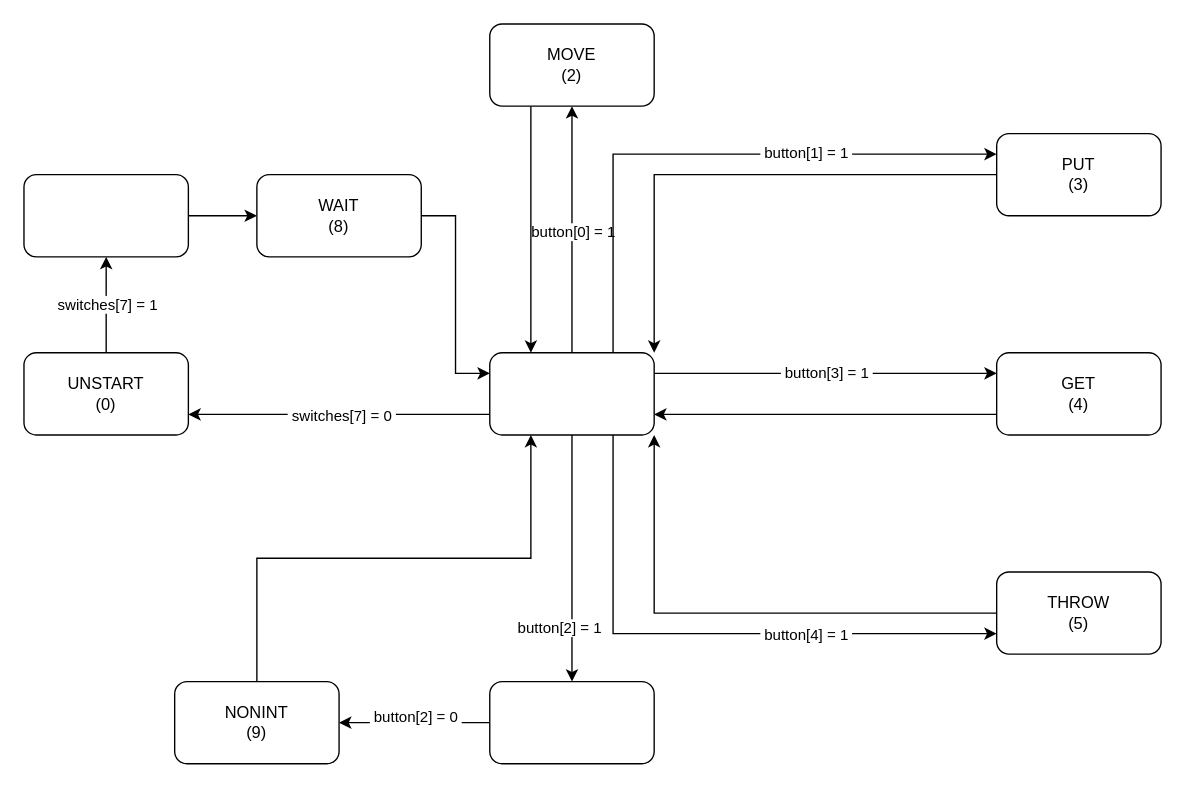
Image size: 1185x788. Some labels were removed from this diagram. The shapes that lost their labels are listed below. From the top down, each one's centre as x and y in pixels, then its label:
At (x=105, y=215): "START (7)".
At (x=571, y=393): "USUAL (1)".
At (x=571, y=722): "INTERACT (6)".
